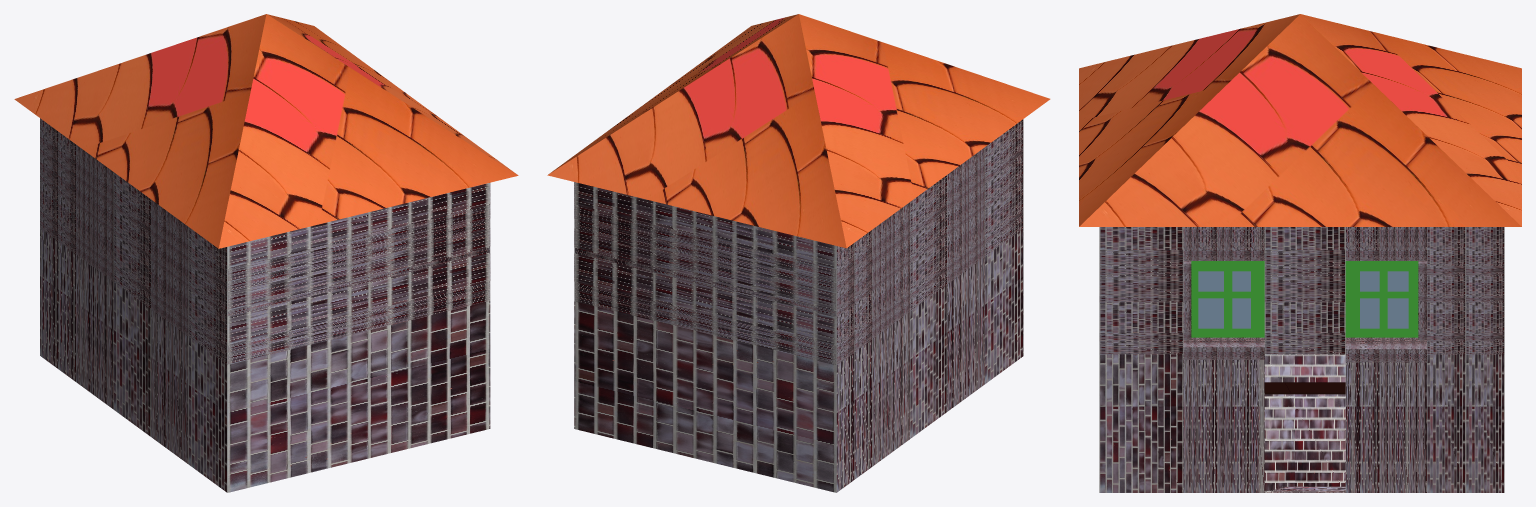
Rendered from haus3.fbx.
The picture shows the model from 3 angles, left to right: view 1: azimuth 30°, elevation 25°; view 2: azimuth 150°, elevation 25°; view 3: azimuth 270°, elevation 25°; orthographic projection. The views are drawn at different scales.
Parts seen in each view (by area): view 1: haus; view 2: haus; view 3: haus.
Part boxes in pixels (x1,y1,x2,y2): haus: (14, 14, 518, 492); haus: (547, 14, 1050, 492); haus: (1079, 14, 1521, 492).
Bounding box in the file's own units: 1174 × 994 × 1199.
5 materials, 3 textured.
